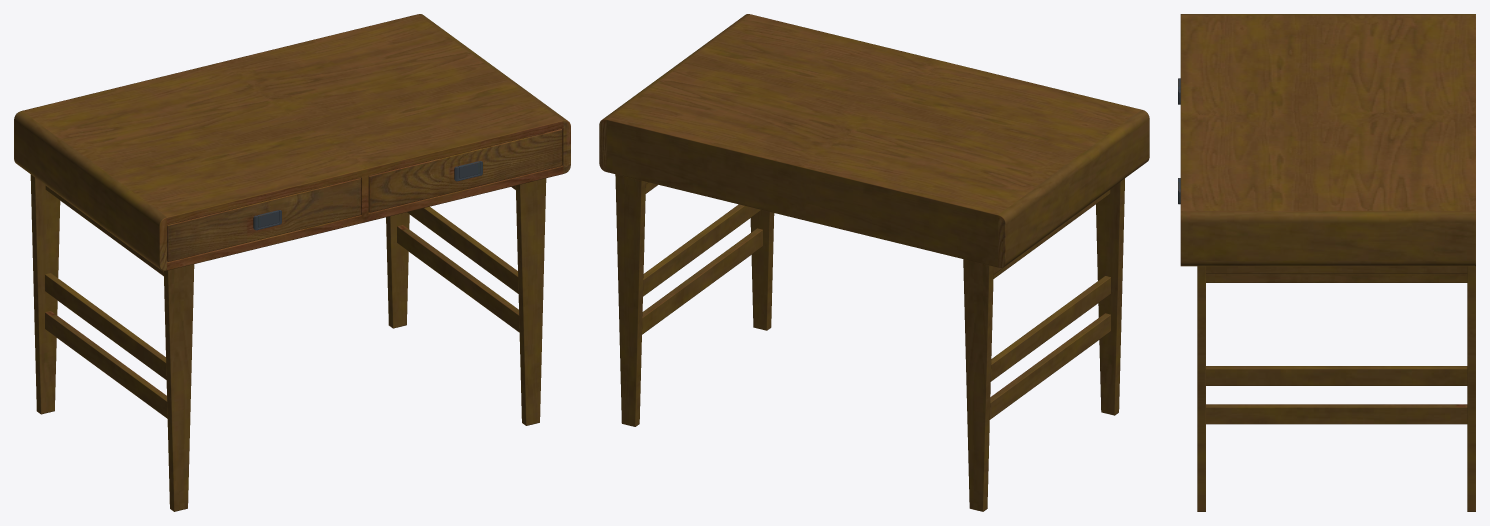
File: desk-midcentury.glb
3 renders of one model, left to right at view 1: azimuth 30°, elevation 25°; view 2: azimuth 150°, elevation 25°; view 3: azimuth 270°, elevation 25°, orthographic. The views are drawn at different scales.
Visible parts, largest first — view 1: RootNode; view 2: RootNode; view 3: RootNode.
Part boxes in pixels (box(x1,y1,x2,y2)): RootNode: box(14, 14, 570, 511); RootNode: box(599, 14, 1149, 511); RootNode: box(1178, 14, 1475, 511).
Size of the model in its own units: 1.07 by 0.754 by 0.66.
1 material, 1 textured.
